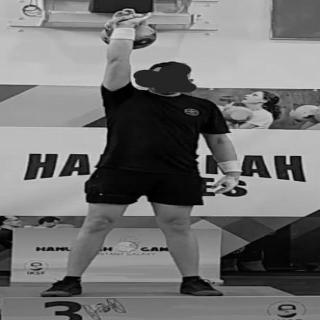kettlebell: (90, 7, 169, 53)
